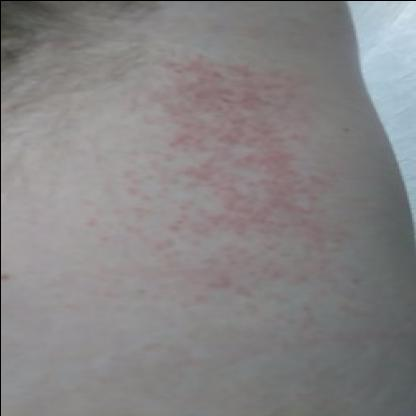Bed Bug: (117, 44, 345, 306)
